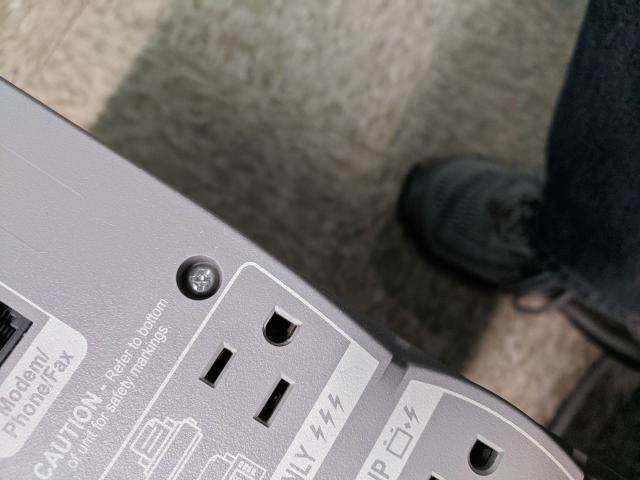CRS: (180, 262, 218, 299)
